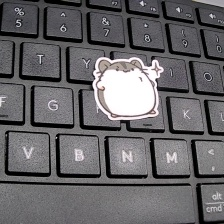mouse: (93, 54, 164, 121)
